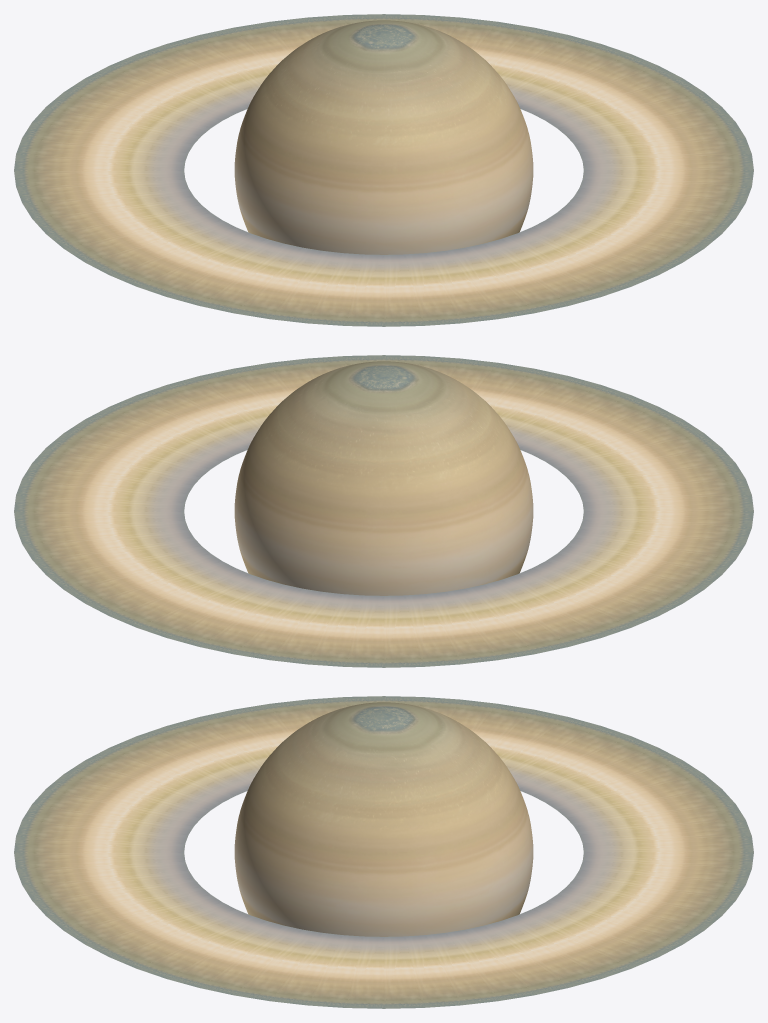
The model's file is saturn.fbx.
3 renders of one model, top to bottom at view 1: azimuth 30°, elevation 25°; view 2: azimuth 150°, elevation 25°; view 3: azimuth 270°, elevation 25°, orthographic.
Visible parts, largest first — view 1: pCylinder1, pSphere2; view 2: pCylinder1, pSphere2; view 3: pCylinder1, pSphere2.
Part boxes in pixels (<box>): pCylinder1: <box>14,14,753,326</box>; pSphere2: <box>234,20,533,254</box>; pCylinder1: <box>14,355,753,667</box>; pSphere2: <box>234,361,533,595</box>; pCylinder1: <box>14,696,753,1008</box>; pSphere2: <box>234,702,533,936</box>.
Size of the model in its own units: 67.09 by 27.1 by 67.09.
Materials: 2 (2 with a texture image).
